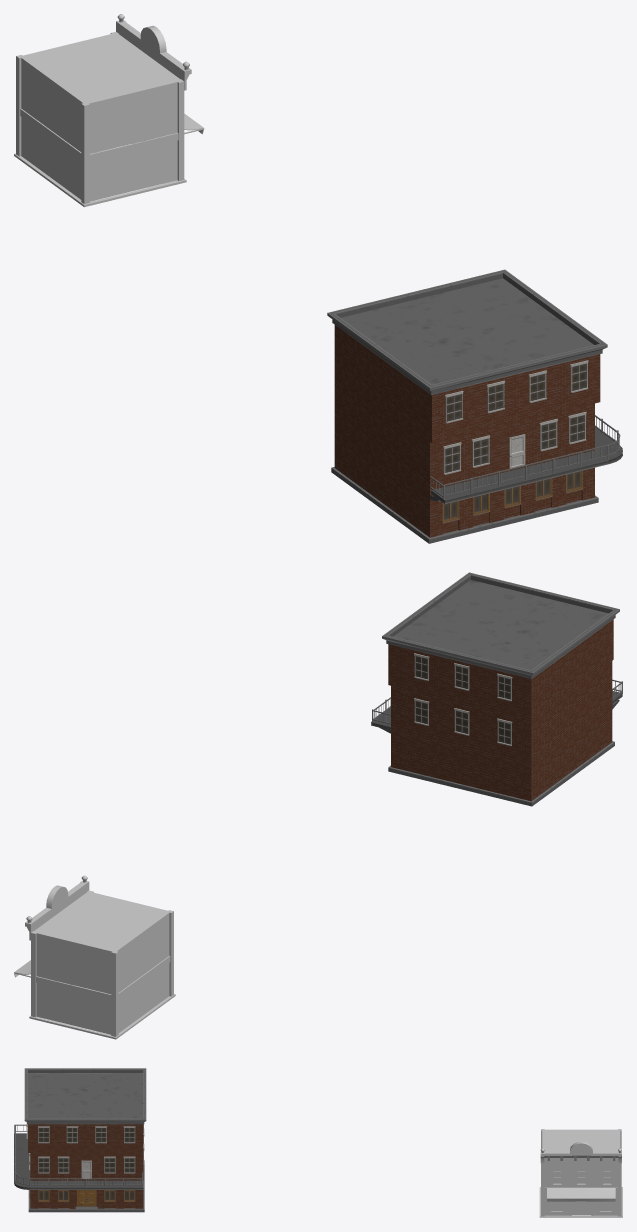
The model's file is BUILD_3_.fbx.
The picture shows the model from 3 angles, top to bottom: view 1: azimuth 30°, elevation 25°; view 2: azimuth 150°, elevation 25°; view 3: azimuth 270°, elevation 25°; orthographic projection. The views are drawn at different scales.
Visible parts, largest first — view 1: Cube.080, Cube.068, Cube.065, Cube.083, Plane.023, Cube.081, Cube.069, Cube.091, Plane.020, Cube.073, Cube.086, Cube.057 (+1 smaller); view 2: Cube.080, Cube.068, Cube.065, Cube.083, Plane.023, Cube.069, Cube.091, Cube.073, Cube.057; view 3: Cube.080, Cube.065, Cube.068, Cube.081, Plane.023, Cube.083, Cube.073, Cube.077, Cube.091, Cube.086, Plane.022, Cube.069 (+4 smaller).
Part boxes in pixels (x1,y1,x2,y2): Cube.080: (334, 325, 600, 537); Cube.068: (20, 32, 181, 201); Cube.065: (341, 278, 594, 384); Cube.083: (327, 269, 607, 395); Plane.023: (443, 360, 588, 474); Cube.081: (431, 427, 622, 503); Cube.069: (16, 32, 184, 203); Cube.091: (331, 467, 598, 543); Plane.020: (442, 470, 583, 523); Cube.073: (116, 20, 190, 90); Cube.086: (430, 415, 619, 496); Cube.057: (20, 108, 178, 161); Cube.080: (388, 619, 613, 800); Cube.068: (33, 891, 170, 1034); Cube.065: (393, 580, 608, 670); Cube.083: (382, 572, 619, 678); Plane.023: (414, 653, 512, 746); Cube.069: (31, 890, 173, 1036); Cube.091: (388, 741, 614, 806); Cube.073: (25, 881, 89, 939); Cube.057: (36, 956, 170, 1000); Cube.080: (28, 1124, 143, 1209); Cube.065: (28, 1073, 143, 1118); Cube.068: (542, 1129, 620, 1215); Cube.081: (14, 1133, 143, 1189); Plane.023: (26, 1122, 144, 1173); Cube.083: (24, 1068, 146, 1124); Cube.073: (540, 1141, 621, 1163); Cube.077: (547, 1188, 615, 1201); Cube.091: (28, 1160, 144, 1212); Cube.086: (15, 1124, 142, 1185); Plane.022: (38, 1190, 135, 1201); Cube.069: (541, 1129, 621, 1216).
Bounding box in the file's own units: 1355 × 957 × 5604.
